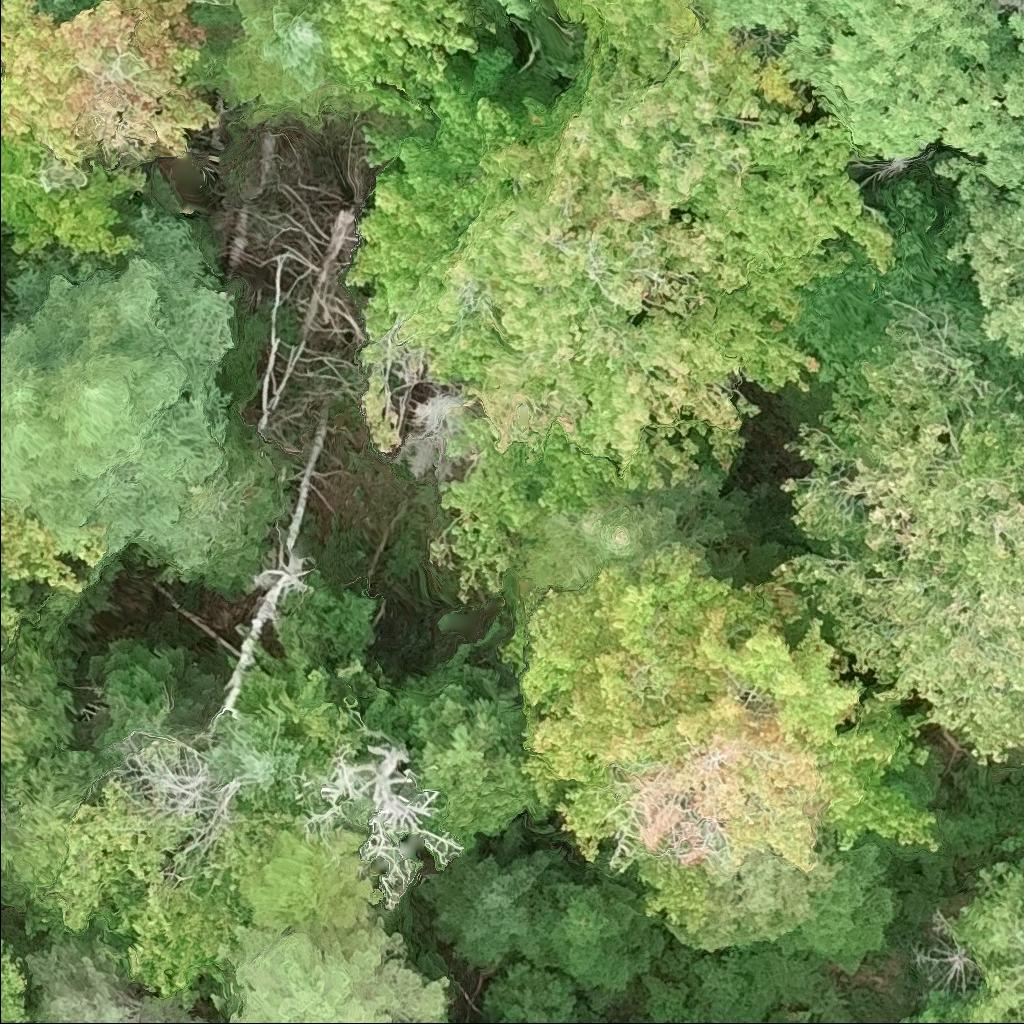crown: (342, 17, 892, 495), (496, 545, 944, 937), (774, 298, 1023, 759), (0, 204, 243, 581), (701, 0, 1004, 162), (0, 0, 221, 165), (429, 417, 611, 607), (508, 462, 757, 597), (406, 645, 556, 857), (937, 7, 1023, 358), (303, 739, 460, 909), (27, 777, 194, 936), (209, 916, 457, 1023), (533, 850, 671, 1012), (321, 0, 486, 135), (415, 848, 583, 977), (92, 872, 250, 1009), (0, 134, 148, 271), (230, 814, 384, 942), (19, 933, 209, 1023), (215, 0, 348, 127), (788, 840, 902, 973), (86, 639, 223, 748), (198, 705, 308, 811), (950, 864, 1023, 1023), (559, 0, 697, 79), (0, 511, 83, 591), (0, 936, 35, 1023), (899, 992, 965, 1023), (0, 577, 21, 664), (37, 0, 87, 23), (0, 226, 12, 304), (492, 0, 534, 19)
